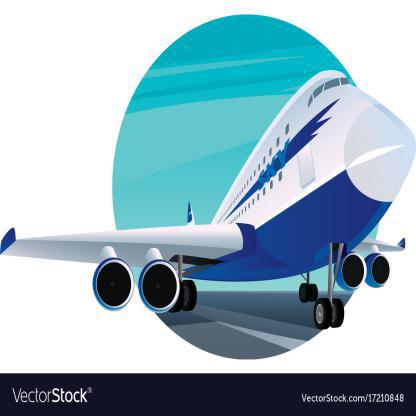CIV_Plane: (1, 67, 415, 347)
